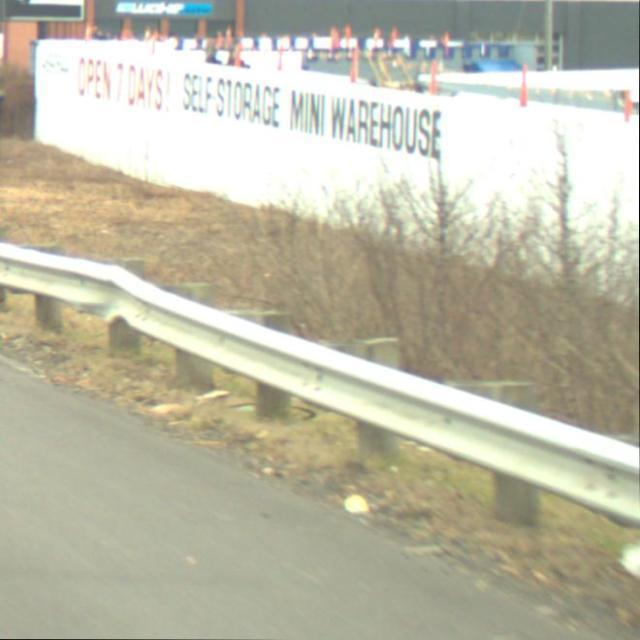Guard rail: (0, 237, 640, 561)
